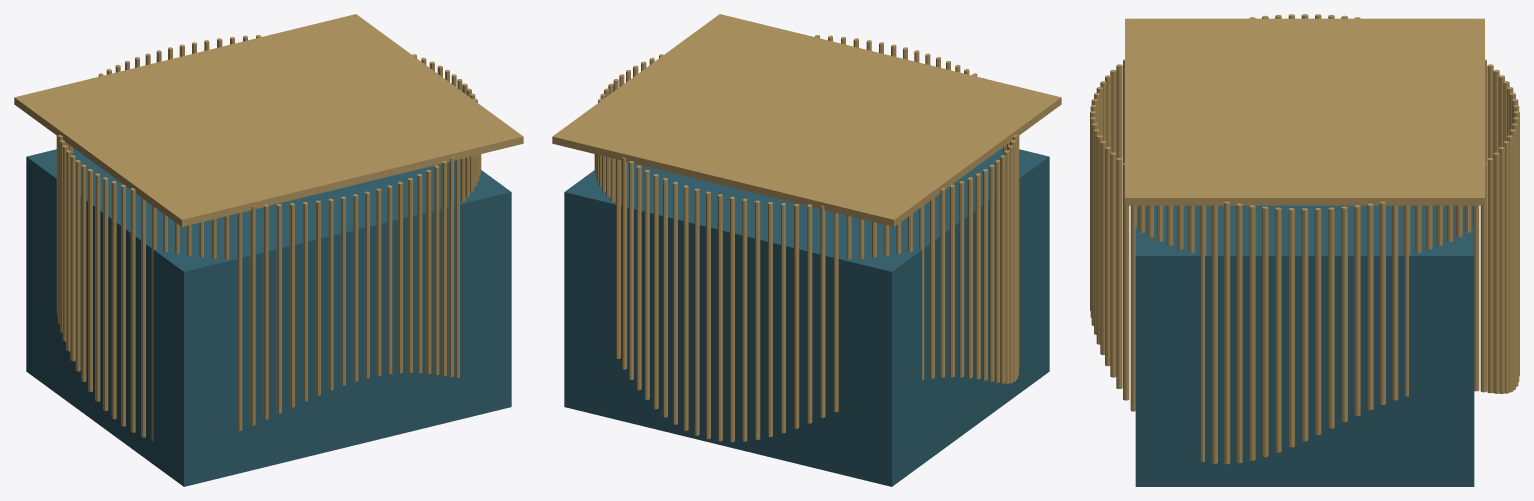
Rendered from fosun-art-center.glb.
3 renders of one model, left to right at view 1: azimuth 30°, elevation 25°; view 2: azimuth 150°, elevation 25°; view 3: azimuth 270°, elevation 25°, orthographic. The views are drawn at different scales.
Visible parts, largest first — view 1: fosun-art-center; view 2: fosun-art-center; view 3: fosun-art-center.
Boxes of the visible parts, box(x1,y1,x2,y2) form: fosun-art-center: box(14, 14, 523, 486); fosun-art-center: box(552, 14, 1061, 486); fosun-art-center: box(1090, 14, 1519, 486).
Size of the model in its own units: 40.28 by 28 by 37.25.
